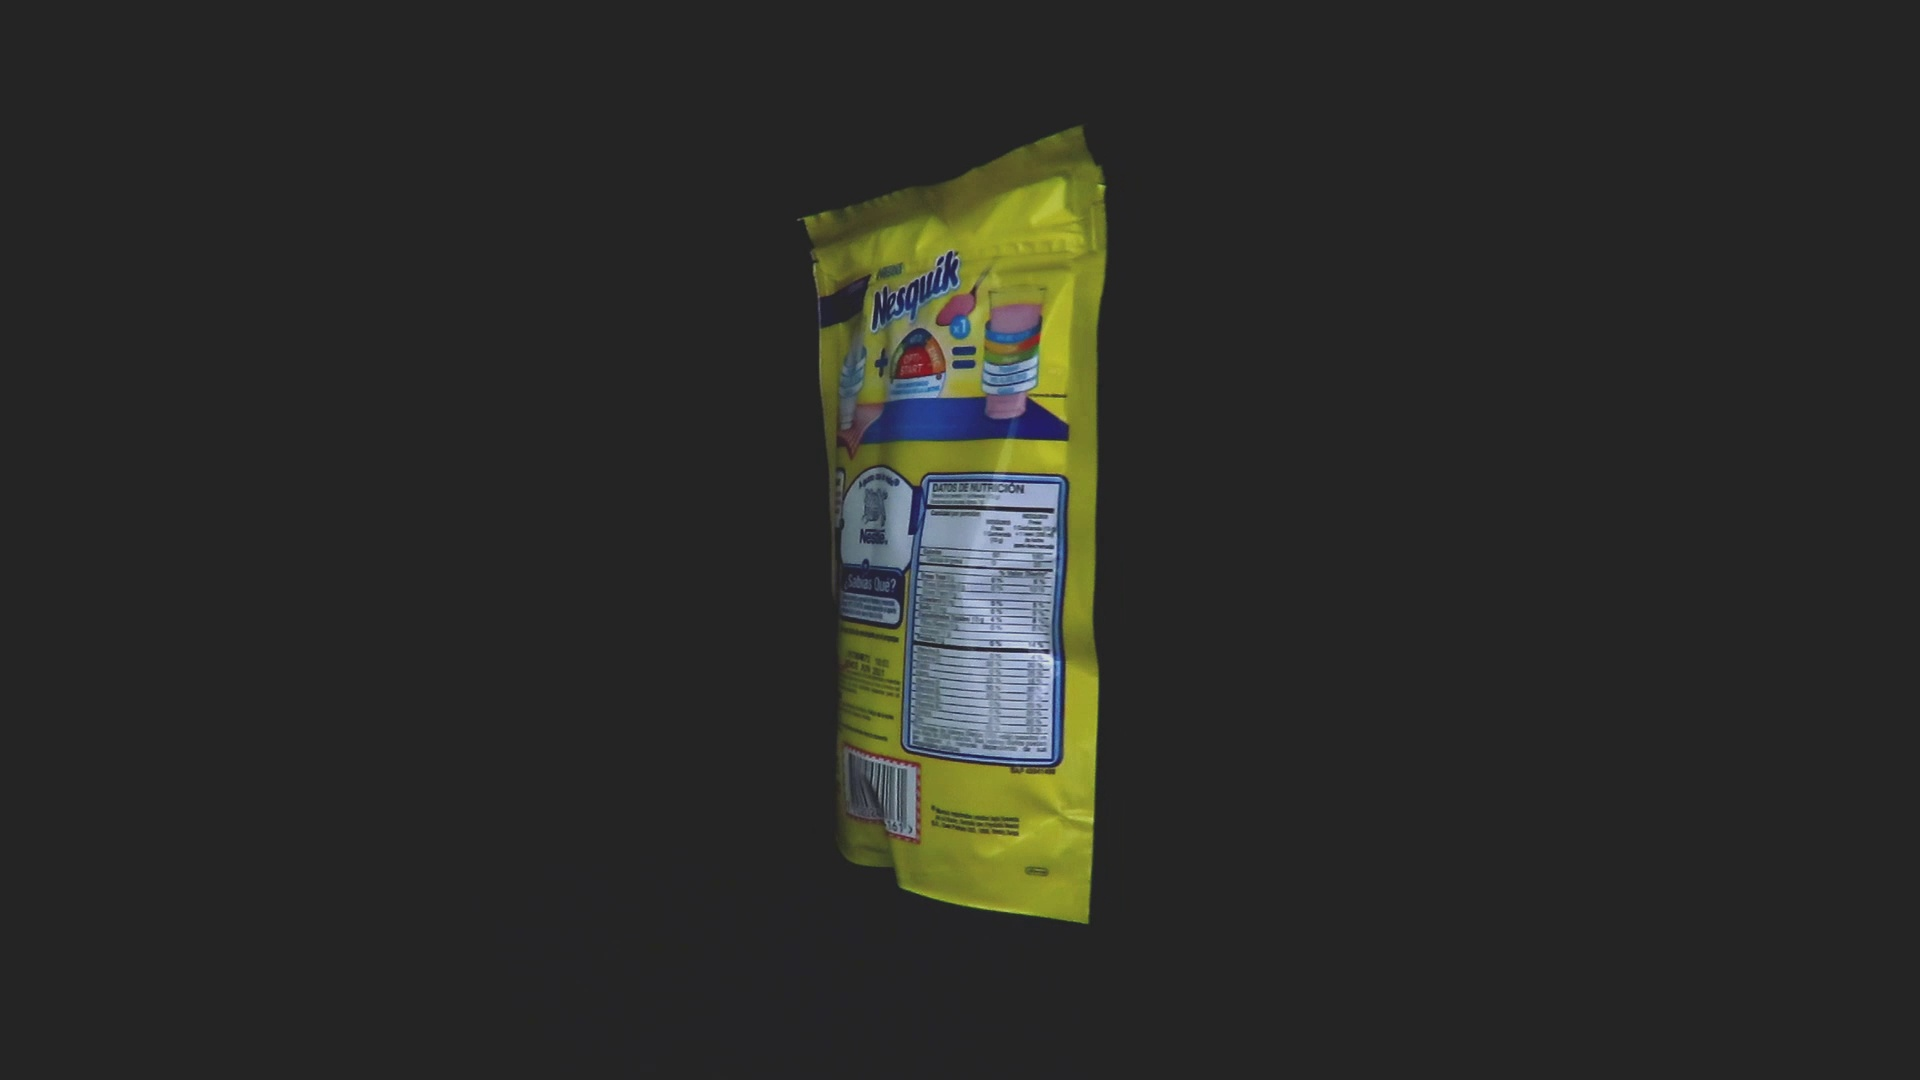COL0170305DYP20000: (793, 120, 1113, 930)
